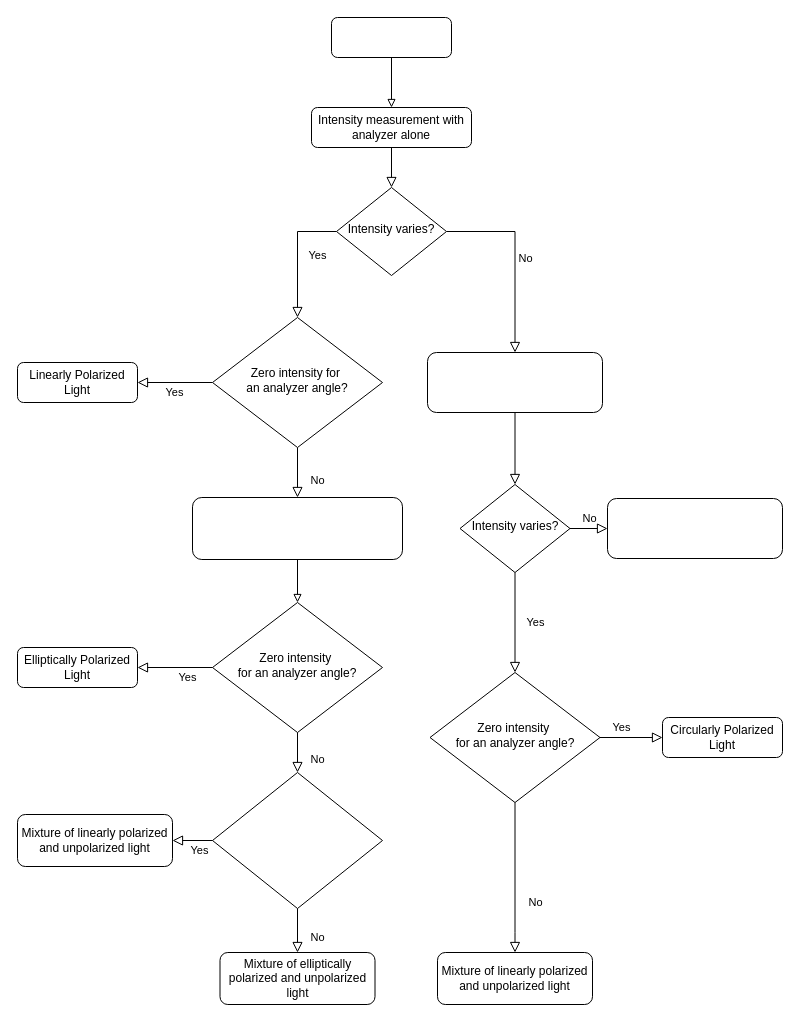
The diagram is 800 pixels wide and 1022 high, and some of its shapes have lost their labels. The box of each missing label's shape, as (x1, y1, x2, y2) in pixels:
Insert Black Box: (330, 16, 452, 58)
Insert λ/4 plate fast axis in arbitrary direction: (426, 352, 602, 412)
Insert λ/4 plate fast axis parallel to analyzer direction extremum intensity: (192, 496, 402, 560)
Minimum intensity at the same angle as without λ/4 plate?: (212, 772, 382, 908)
Natural unpolarized light: (606, 498, 782, 558)
